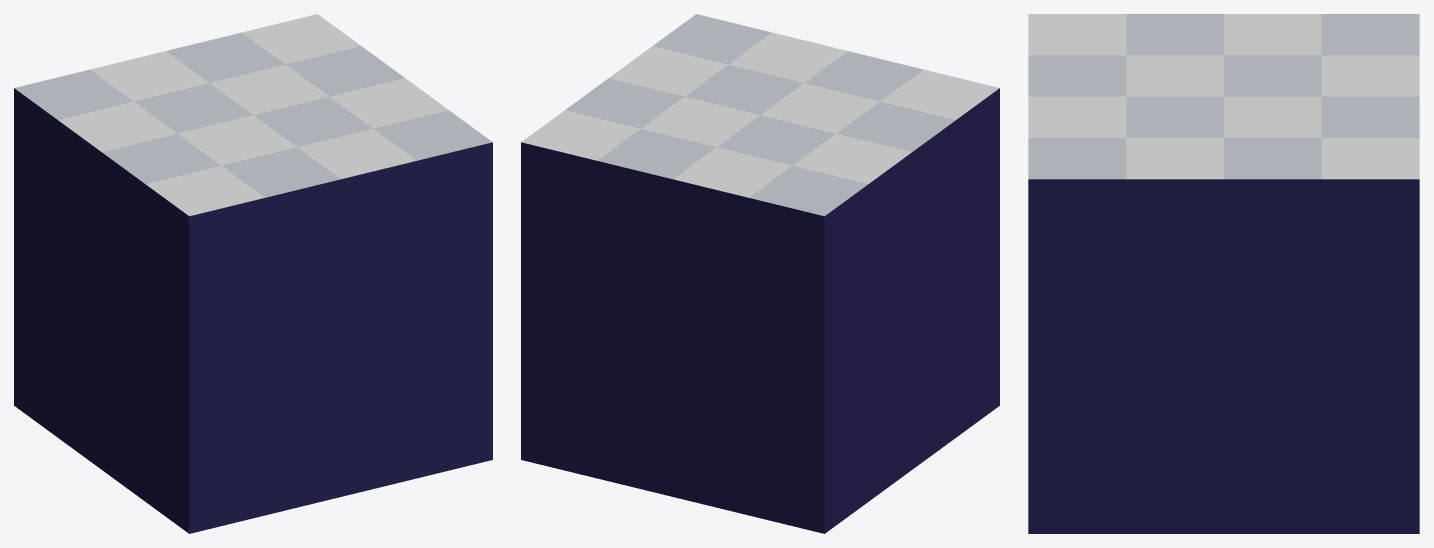
File: box_white.glb
The picture shows the model from 3 angles, left to right: view 1: azimuth 30°, elevation 25°; view 2: azimuth 150°, elevation 25°; view 3: azimuth 270°, elevation 25°; orthographic projection. The views are drawn at different scales.
Visible parts, largest first — view 1: Body; view 2: Body; view 3: Body.
Part boxes in pixels (<box>): Body: <box>14,14,492,533</box>; Body: <box>521,14,999,533</box>; Body: <box>1028,14,1419,533</box>.
Bounding box in the file's own units: 1 × 1 × 1.
